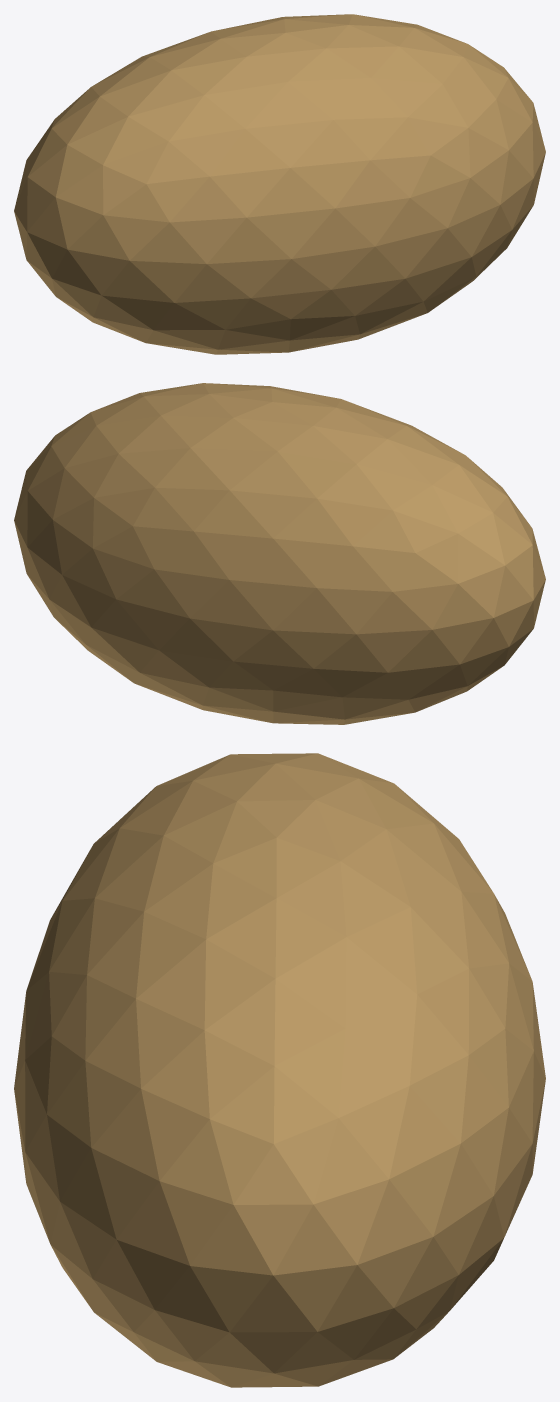
The model's file is Potato.glb.
3 views of the same model, one above another, from view 1: azimuth 30°, elevation 25°; view 2: azimuth 150°, elevation 25°; view 3: azimuth 270°, elevation 25° (orthographic). The views are drawn at different scales.
Parts seen in each view (by area): view 1: Icosphere; view 2: Icosphere; view 3: Icosphere.
Part boxes in pixels (x1,y1,x2,y2): Icosphere: (14,14,545,354); Icosphere: (14,383,545,724); Icosphere: (14,753,545,1387).
Bounding box in the file's own units: 0.2717 × 0.1557 × 0.1559.
